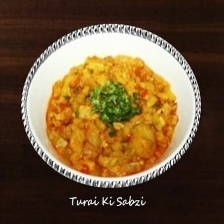dal: (43, 50, 182, 181)
